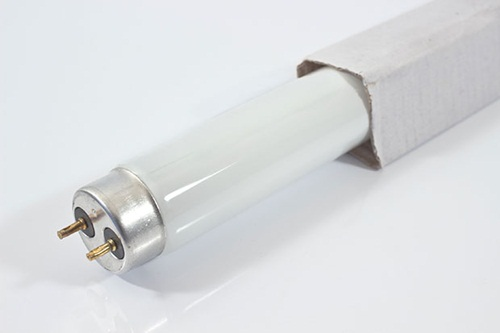Light_bulb: (50, 66, 373, 279)
